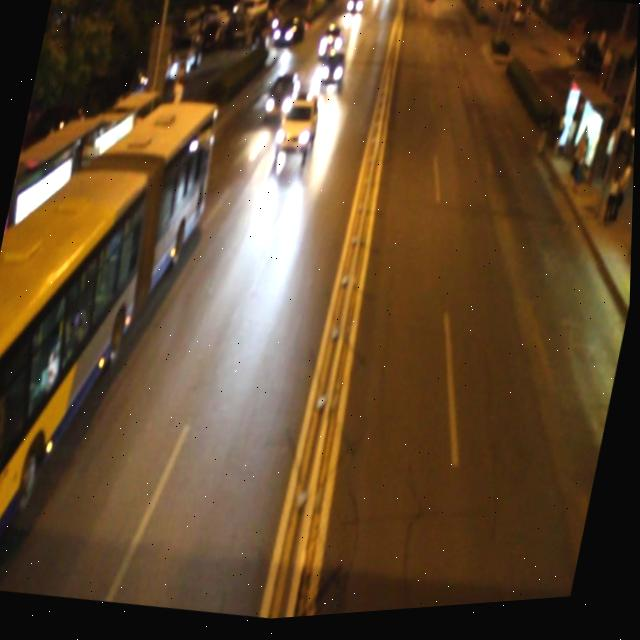car: (273, 94, 321, 165), (263, 74, 302, 127), (318, 51, 349, 96), (317, 24, 343, 66)
van: (0, 71, 224, 613)
